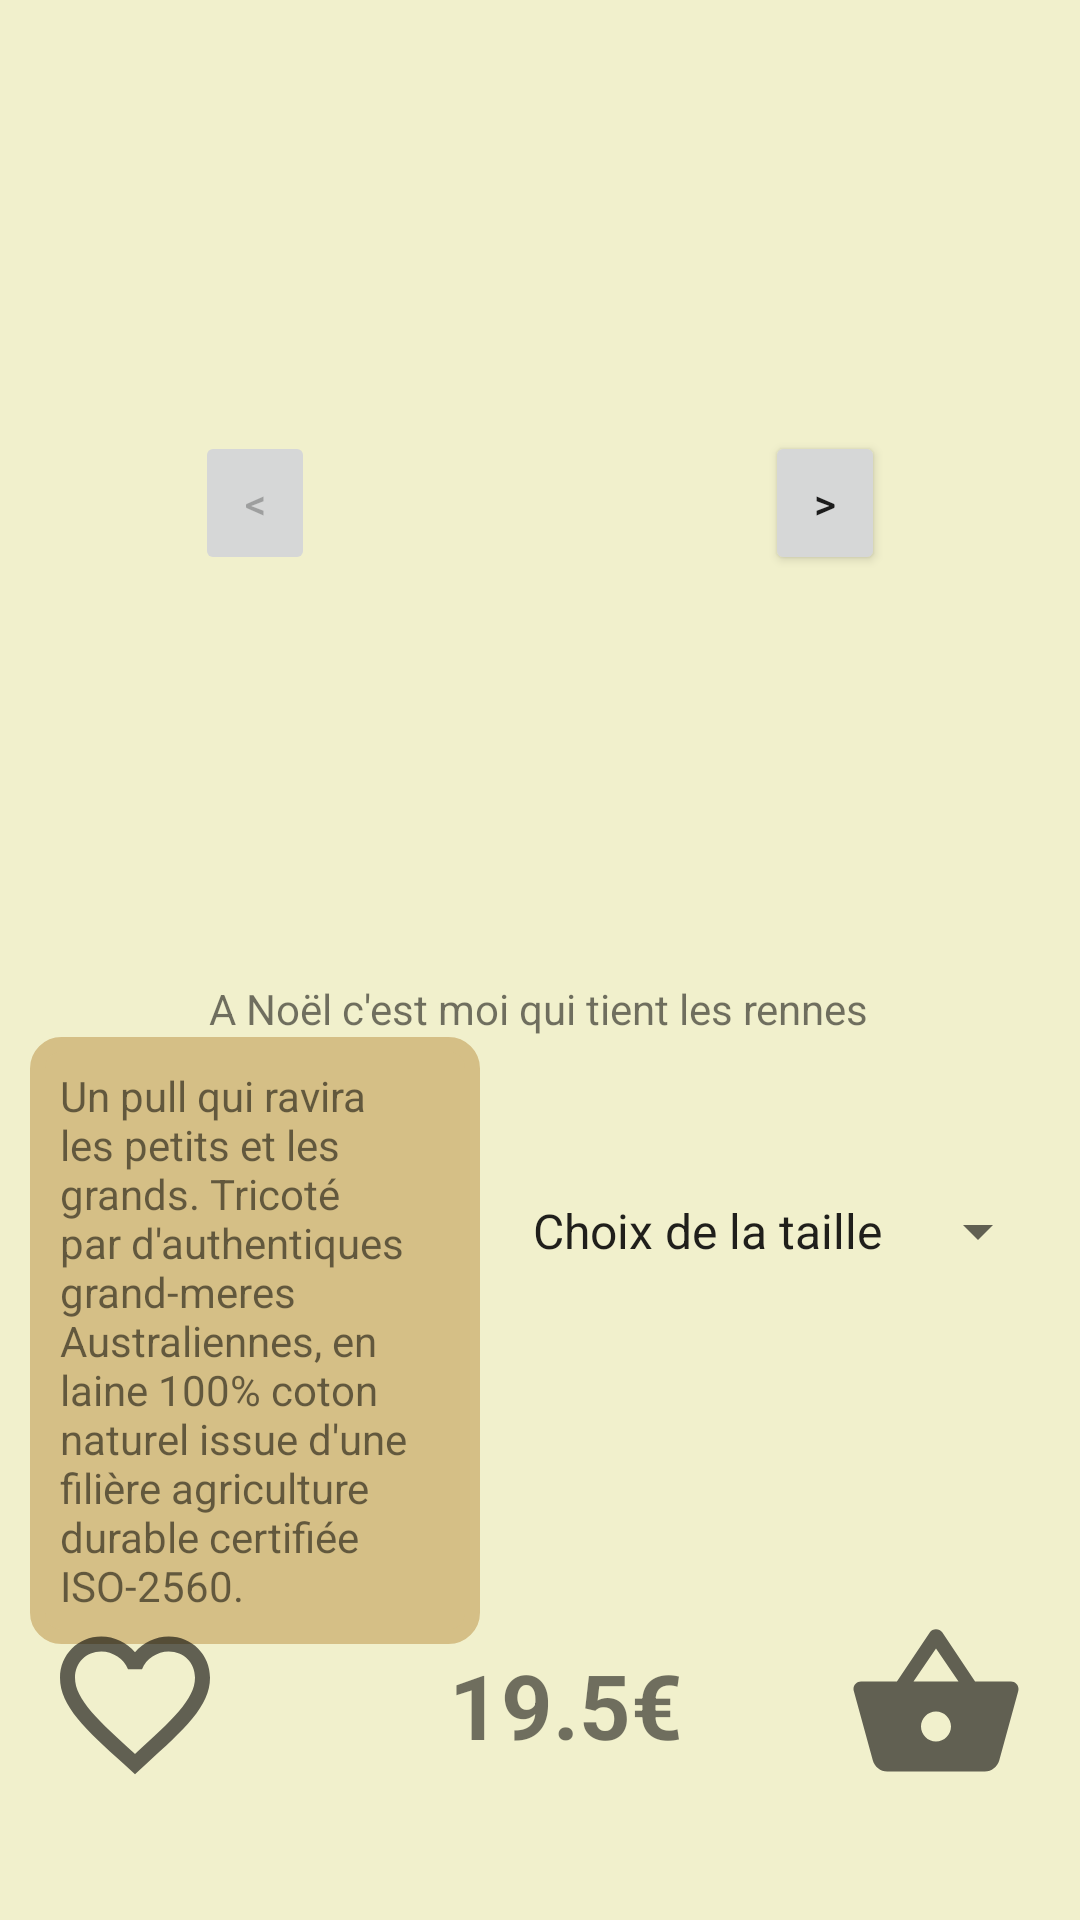

Screen size 1080 × 1920. Icon name, then its center in pixels as point (x, y):
pas favoris: point (135, 1694)
shopping basket: point (936, 1700)
